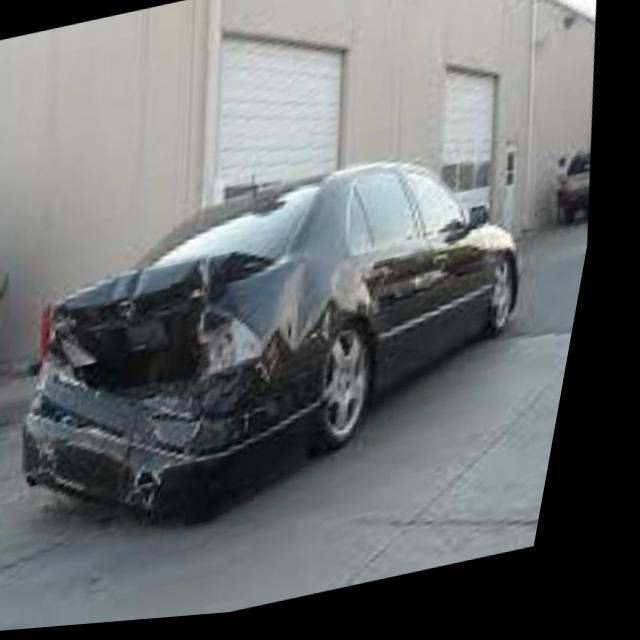dislocated part: (36, 257, 344, 505)
